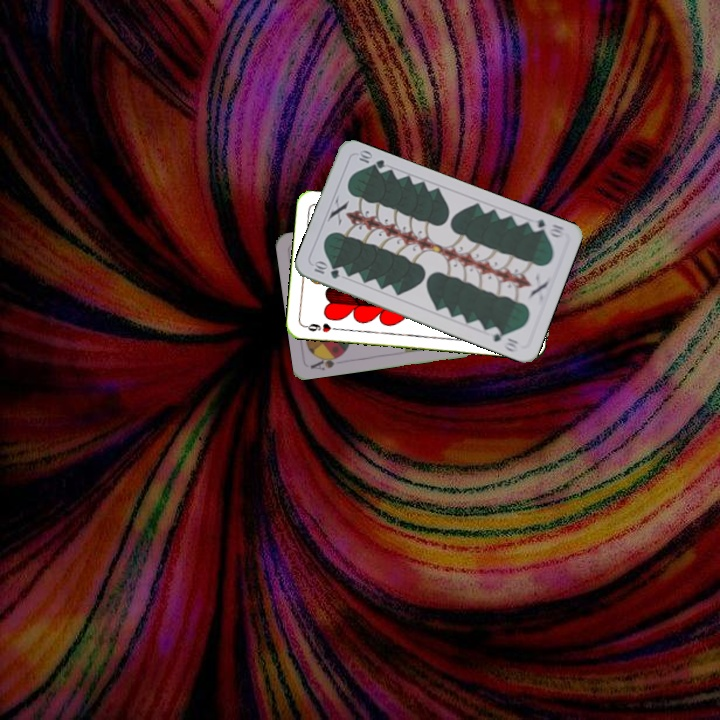G10: (526, 215, 568, 241), (310, 258, 342, 281)
H9: (300, 319, 341, 335)
SA: (307, 350, 346, 373)
